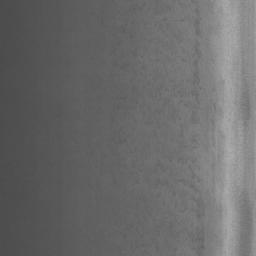Silk spot: (129, 0, 224, 256)
